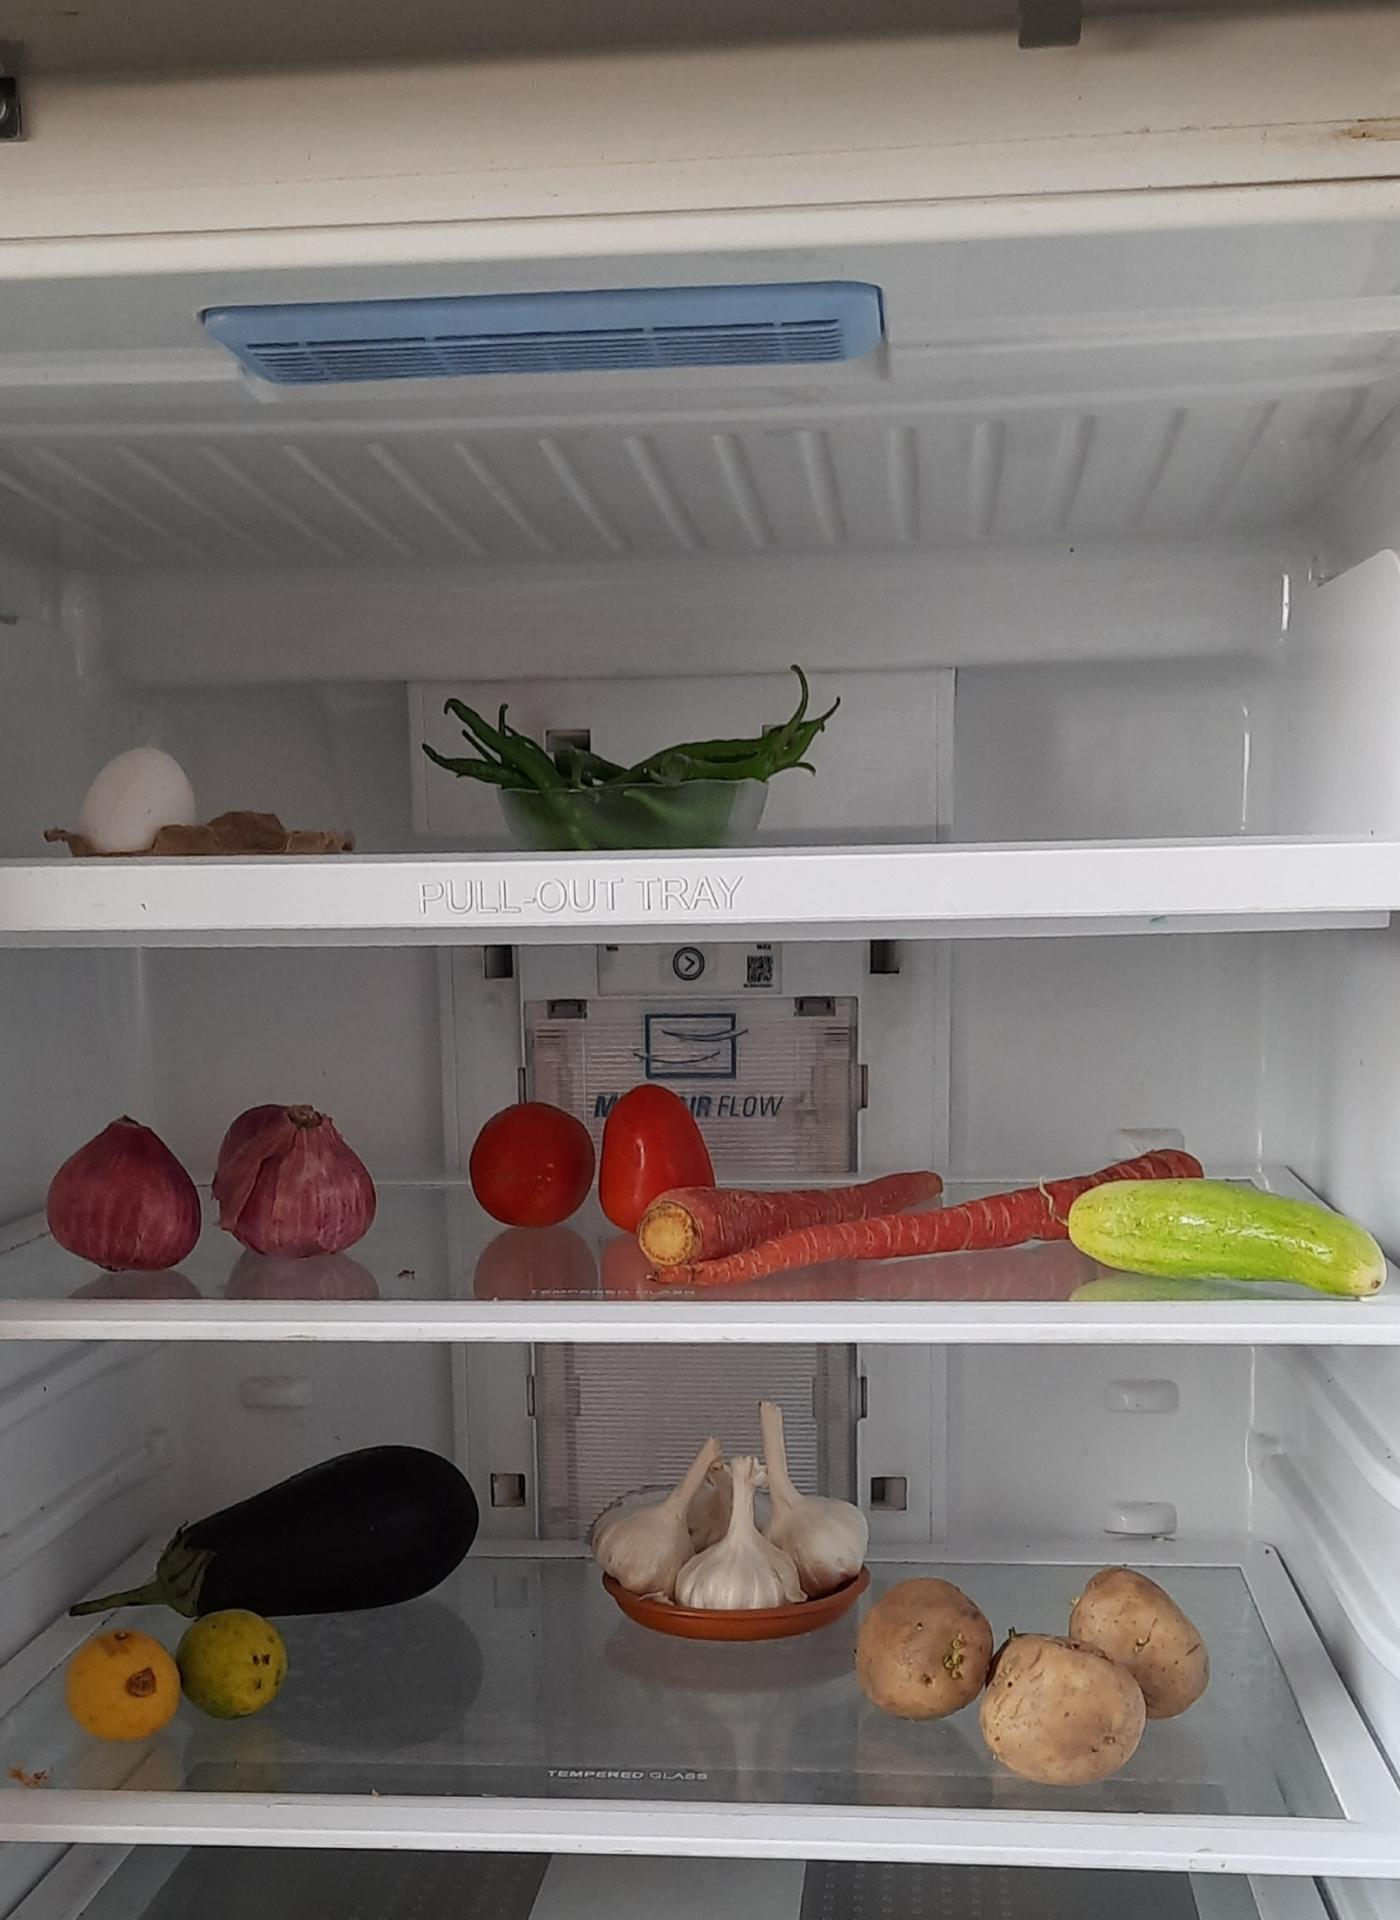brinjal: (78, 1427, 499, 1635)
carrots: (638, 1161, 1240, 1291)
chillies: (440, 687, 833, 848)
cucumber: (1068, 1181, 1393, 1295)
egg: (72, 741, 197, 854)
garlic: (598, 1398, 878, 1611)
lemon: (61, 1611, 289, 1741)
onion: (48, 1091, 380, 1275)
potato: (848, 1571, 1211, 1786)
tomato: (467, 1082, 711, 1224)
